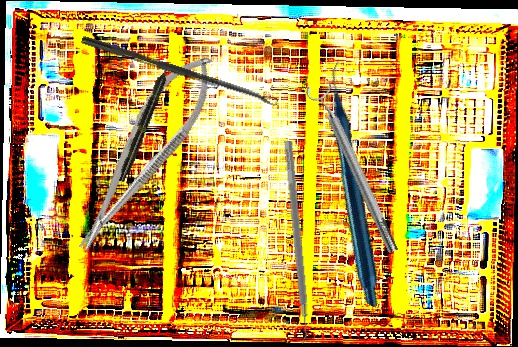Fixation Ring: (303, 77, 406, 258)
Handpiece: (245, 59, 469, 308), (116, 59, 175, 184)
Needle Holder: (58, 41, 230, 264)
Spatula Surgical: (275, 140, 314, 345)
Surgical Spoon: (80, 35, 279, 108)
